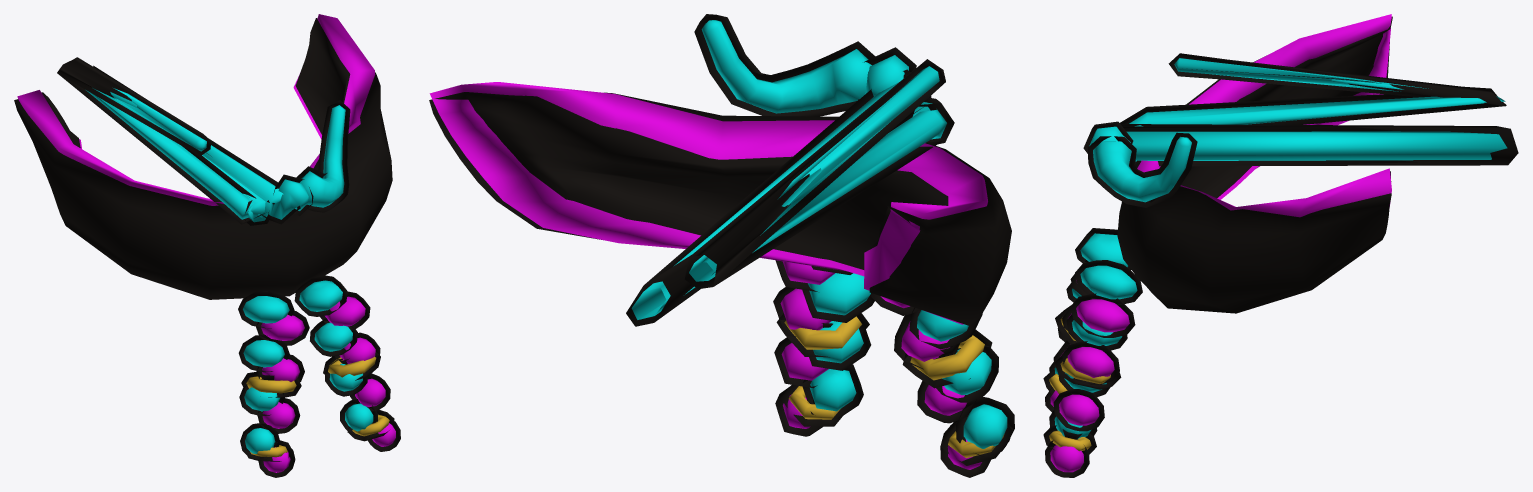
The model's file is beard_forked_male_lo.glb.
The picture shows the model from 3 angles, left to right: view 1: azimuth 30°, elevation 25°; view 2: azimuth 150°, elevation 25°; view 3: azimuth 270°, elevation 25°; orthographic projection. The views are drawn at different scales.
Parts seen in each view (by area): view 1: beard_forked_male_lo; view 2: beard_forked_male_lo; view 3: beard_forked_male_lo.
Boxes of the visible parts, <box> form: beard_forked_male_lo: <box>14,14,400,477</box>; beard_forked_male_lo: <box>429,14,1014,477</box>; beard_forked_male_lo: <box>1043,14,1518,477</box>.
Size of the model in its own units: 0.4464 by 0.4069 by 0.4988.
